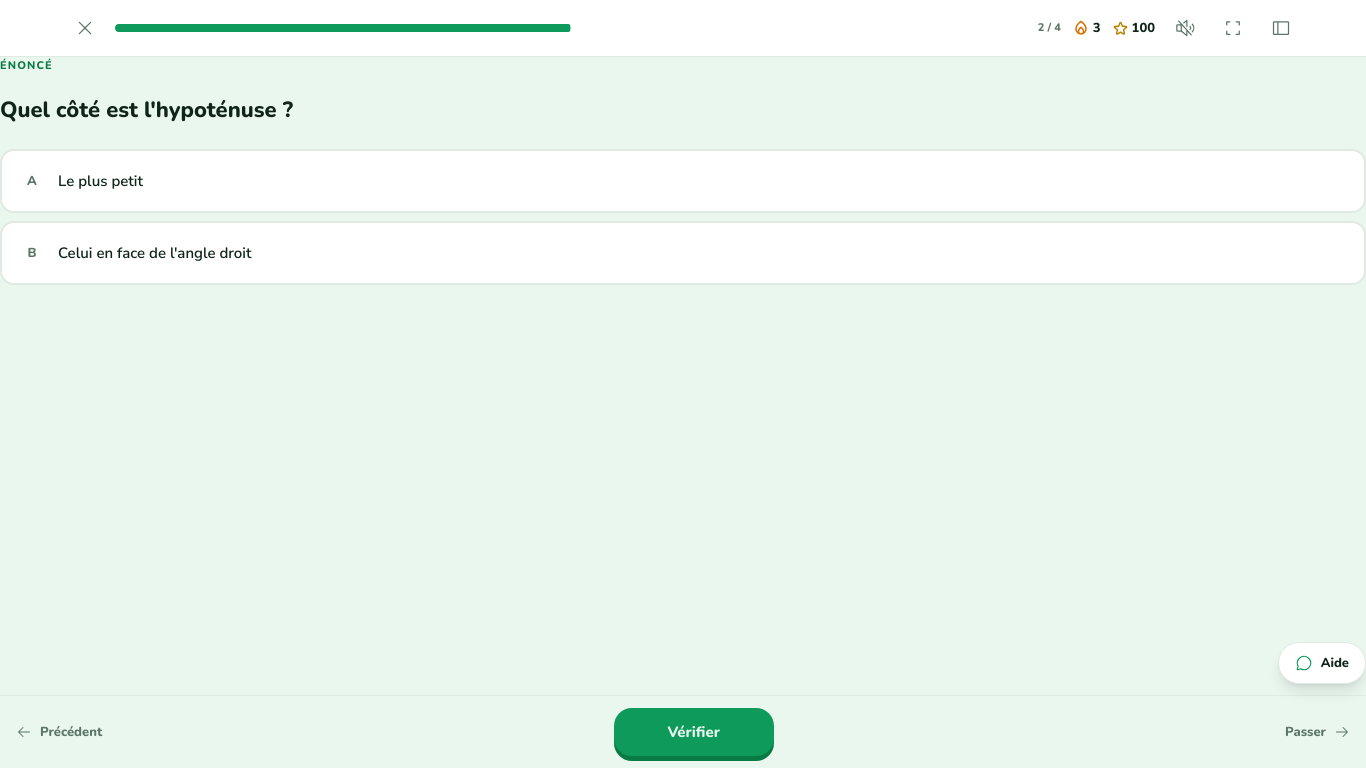
it: the end slide — a summary made of real data (#249) › sums up the session: solved, real XP, completion moved, the exercise left aside
The width and height of the screenshot is (1366, 768).
expect the element showing "100" is shown: met, box [1113,18,1155,38]
What coordinates should you click on to do the following:
click the button with aria-label "Option B:"
I would click on:
 (155, 253)
Its box is [0,221,1365,285].
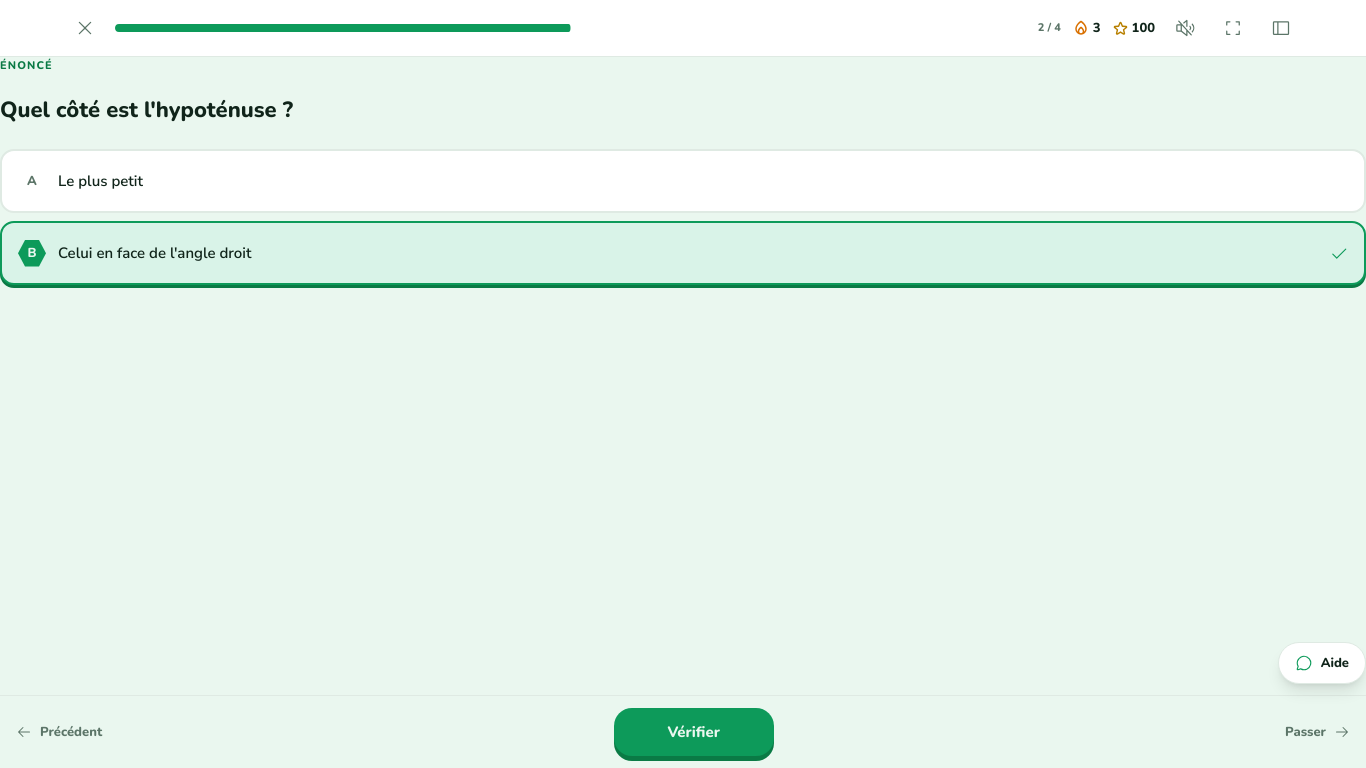
What coordinates should you click on to do the following:
click the button "Vérifier"
I would click on:
 (694, 732)
Its box is [614,708,774,756].
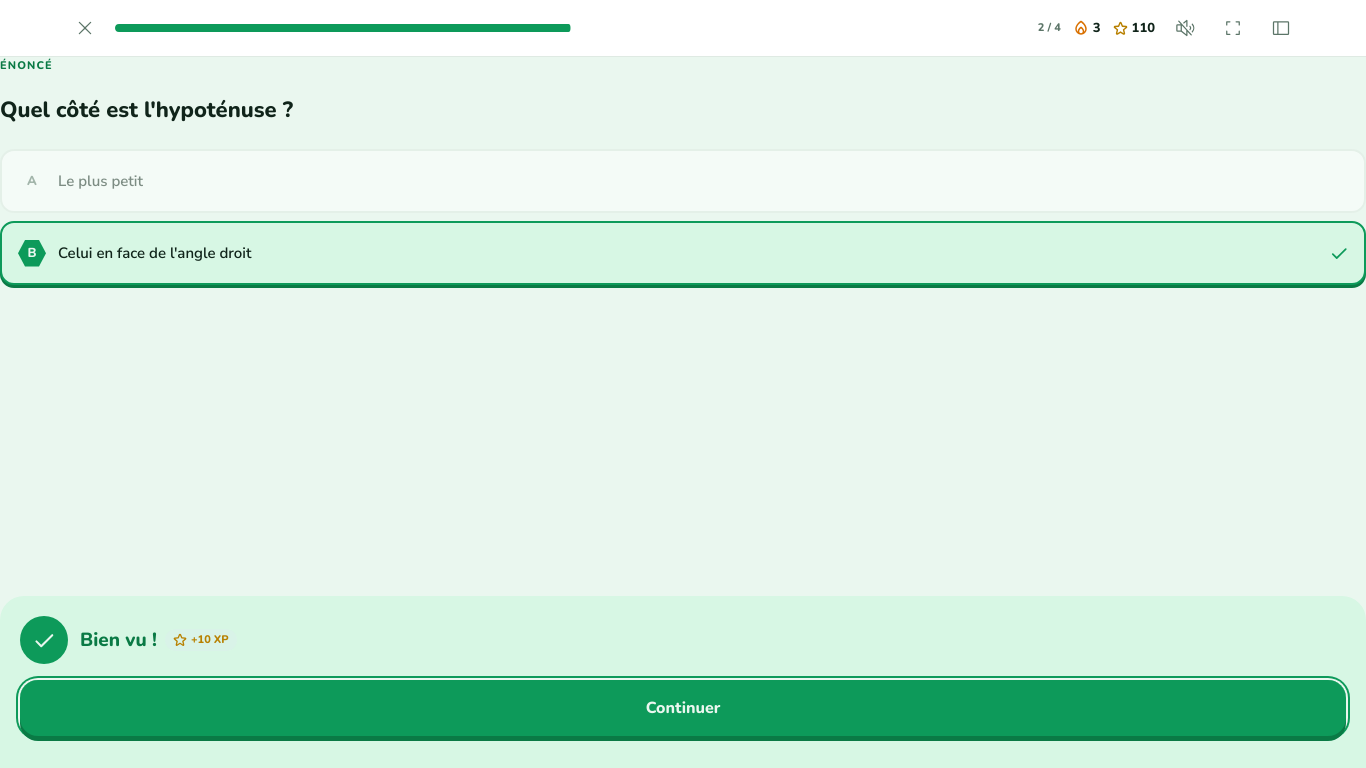
expect the text "+10 XP" is shown: met, box [165,629,237,651]
What coordinates should you click on to do the following:
click the button "Continuer"
I would click on:
 (683, 708)
Its box is [20,680,1346,736].
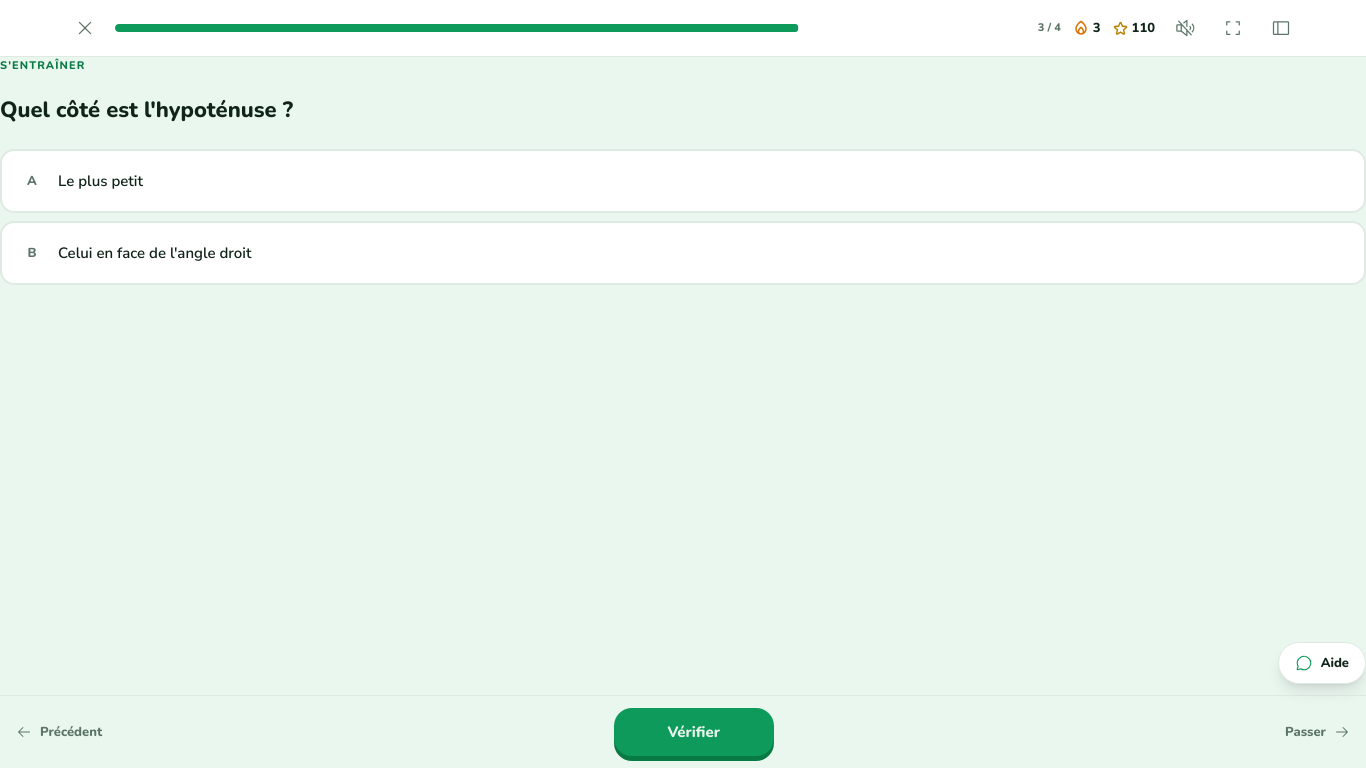
What coordinates should you click on to do the following:
click the button "Passer"
I would click on:
 (1318, 732)
Its box is [1269,714,1365,750].
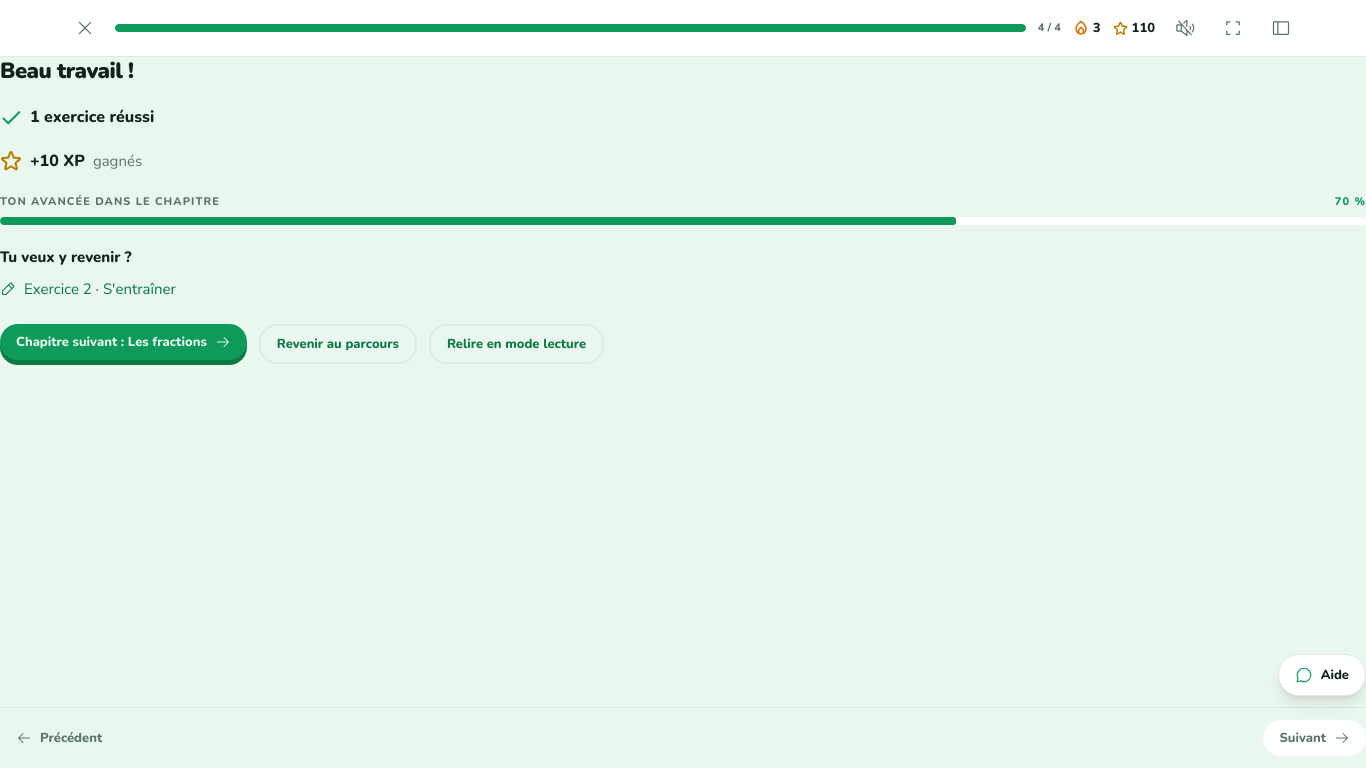
expect the heading "Beau travail !" is shown: met, box [0,56,134,86]
expect the text "1 exercice réussi" is shown: met, box [0,106,154,128]
expect the link "Exercice 2 · S'entraîner" is shown: met, box [0,277,176,301]
